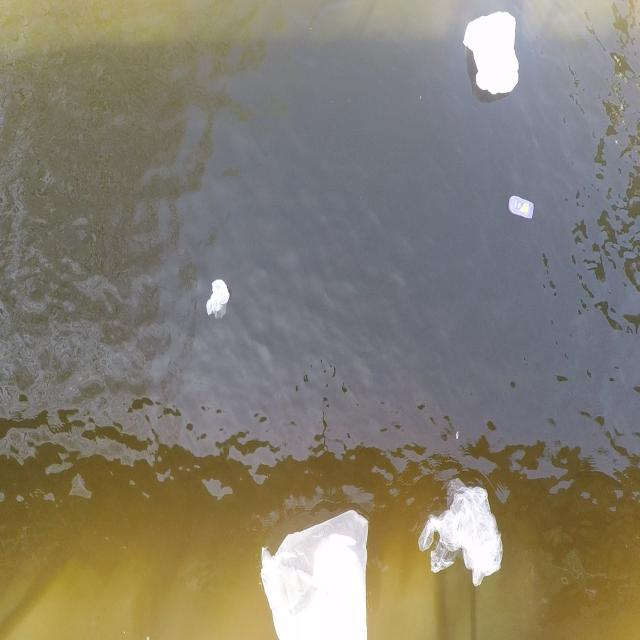Autre plastique: (252, 503, 378, 640), (461, 9, 523, 102), (508, 194, 536, 222)
Sac plastique: (417, 473, 508, 591)
